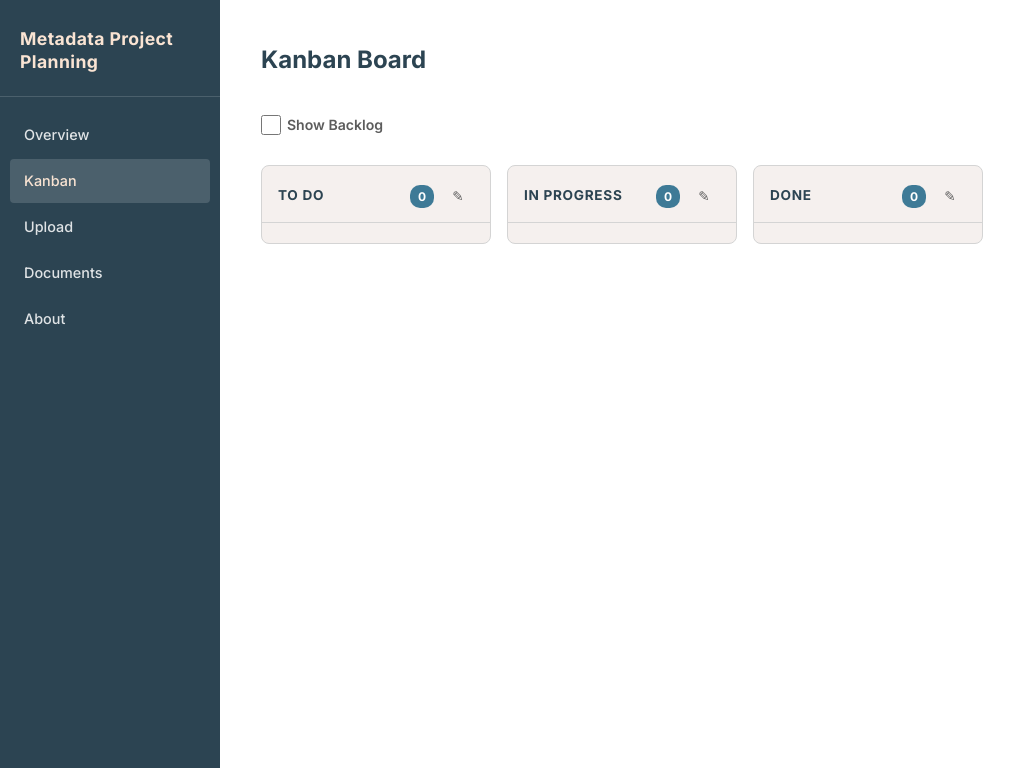
Test: App Integration Tests › navigates to Documents page
Click the link with aria-label "Browse uploaded documents" at (63, 273), box x1=24 y1=264 x2=102 y2=281
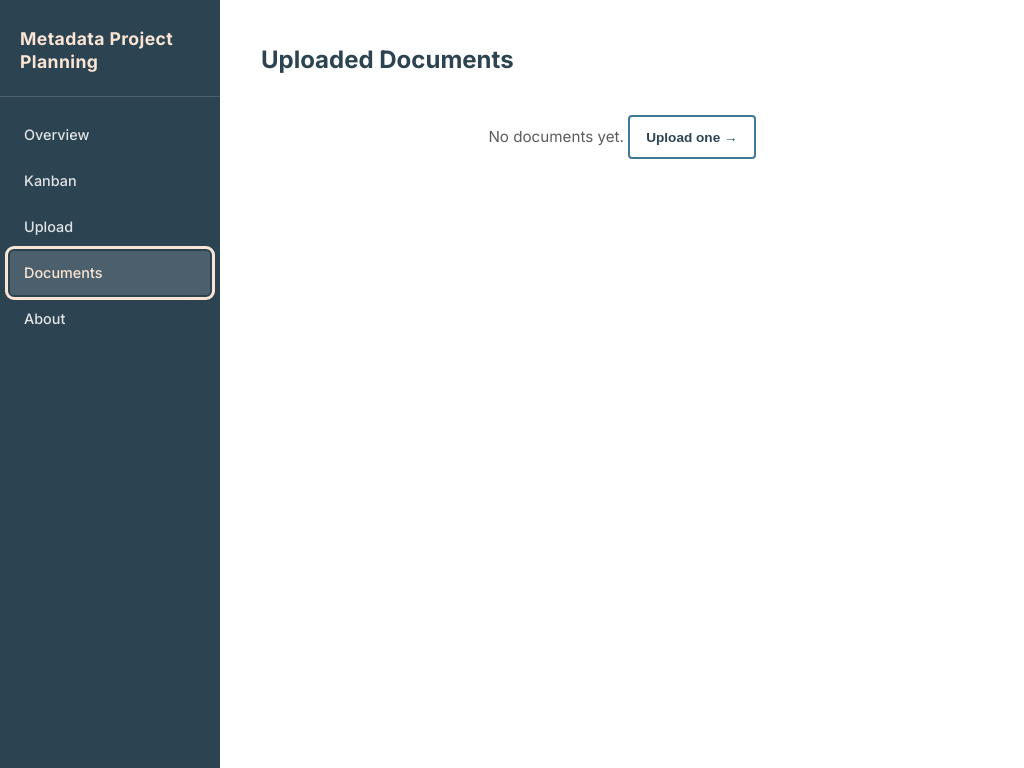
Now the heading "Uploaded Documents" is shown, box x1=261 y1=45 x2=514 y2=74
